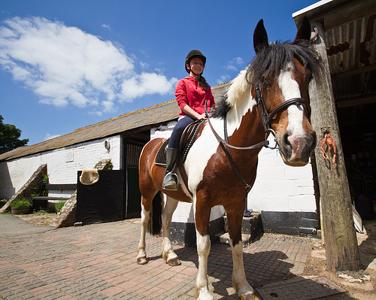person: (164, 47, 217, 191)
